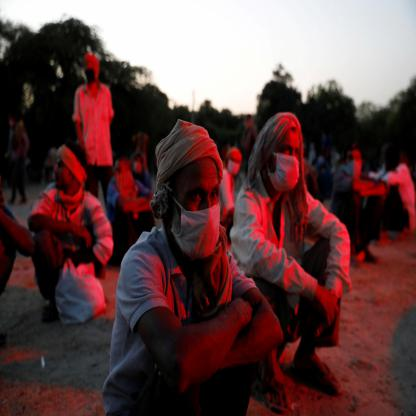Not_Wearing_Mask: (49, 155, 80, 194)
Wearing_Mask: (170, 152, 227, 272), (271, 125, 307, 206)
